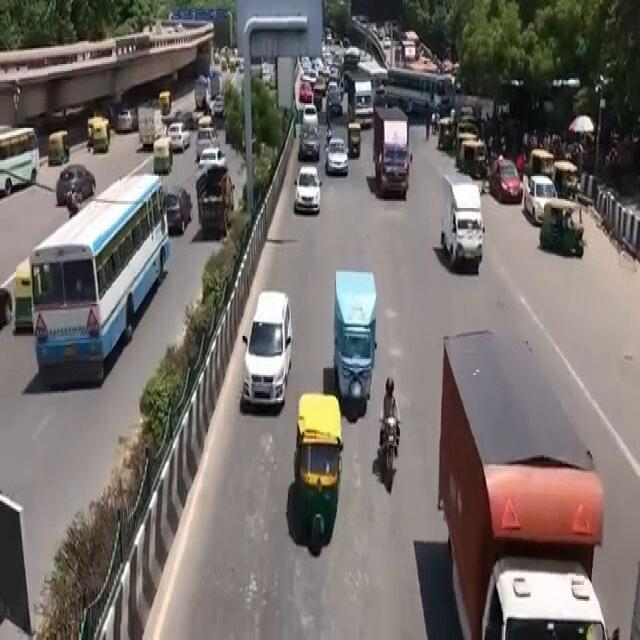three_wheeler: (289, 388, 344, 554)
